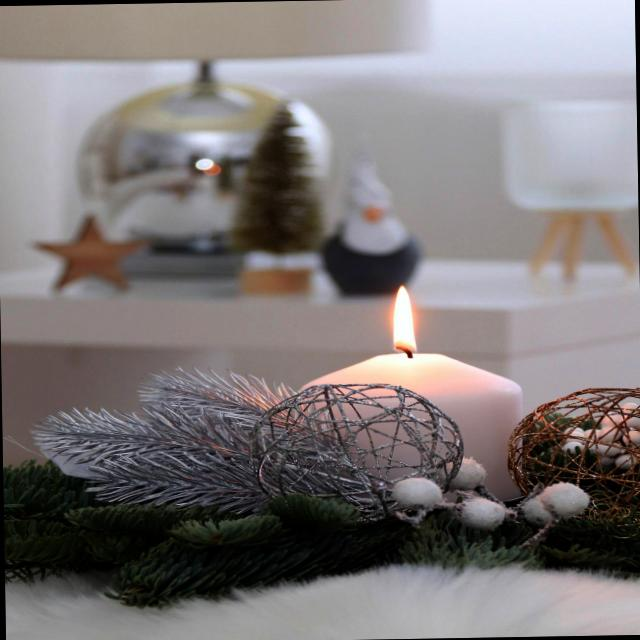Fire_Save: (294, 282, 526, 506)
